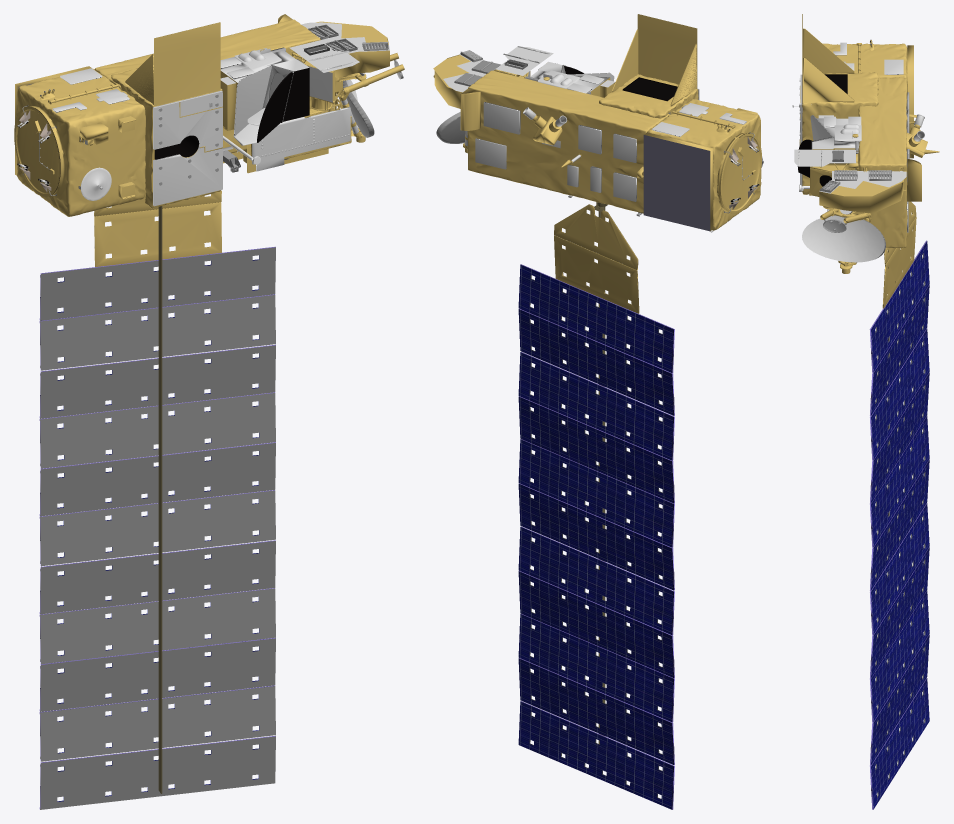
File: aura-c.glb
3 views of the same model, side by side, from view 1: azimuth 30°, elevation 25°; view 2: azimuth 150°, elevation 25°; view 3: azimuth 270°, elevation 25° (orthographic). The views are drawn at different scales.
Parts seen in each view (by area): view 1: Aura_v024-B_trip [Layer12], Aura_v024-B_trip [Layer10]; view 2: Aura_v024-B_trip [Layer10], Aura_v024-B_trip [Layer12]; view 3: Aura_v024-B_trip [Layer12], Aura_v024-B_trip [Layer10].
Part boxes in pixels (box(x1,y1,x2,y2)): Aura_v024-B_trip [Layer12]: box(14, 14, 404, 809); Aura_v024-B_trip [Layer10]: box(40, 255, 267, 801); Aura_v024-B_trip [Layer10]: box(518, 264, 673, 809); Aura_v024-B_trip [Layer12]: box(433, 14, 763, 809); Aura_v024-B_trip [Layer12]: box(792, 14, 939, 809); Aura_v024-B_trip [Layer10]: box(871, 241, 929, 809).
Size of the model in its own units: 8.7 by 18.7 by 3.43.
Materials: 2 (2 with a texture image).
